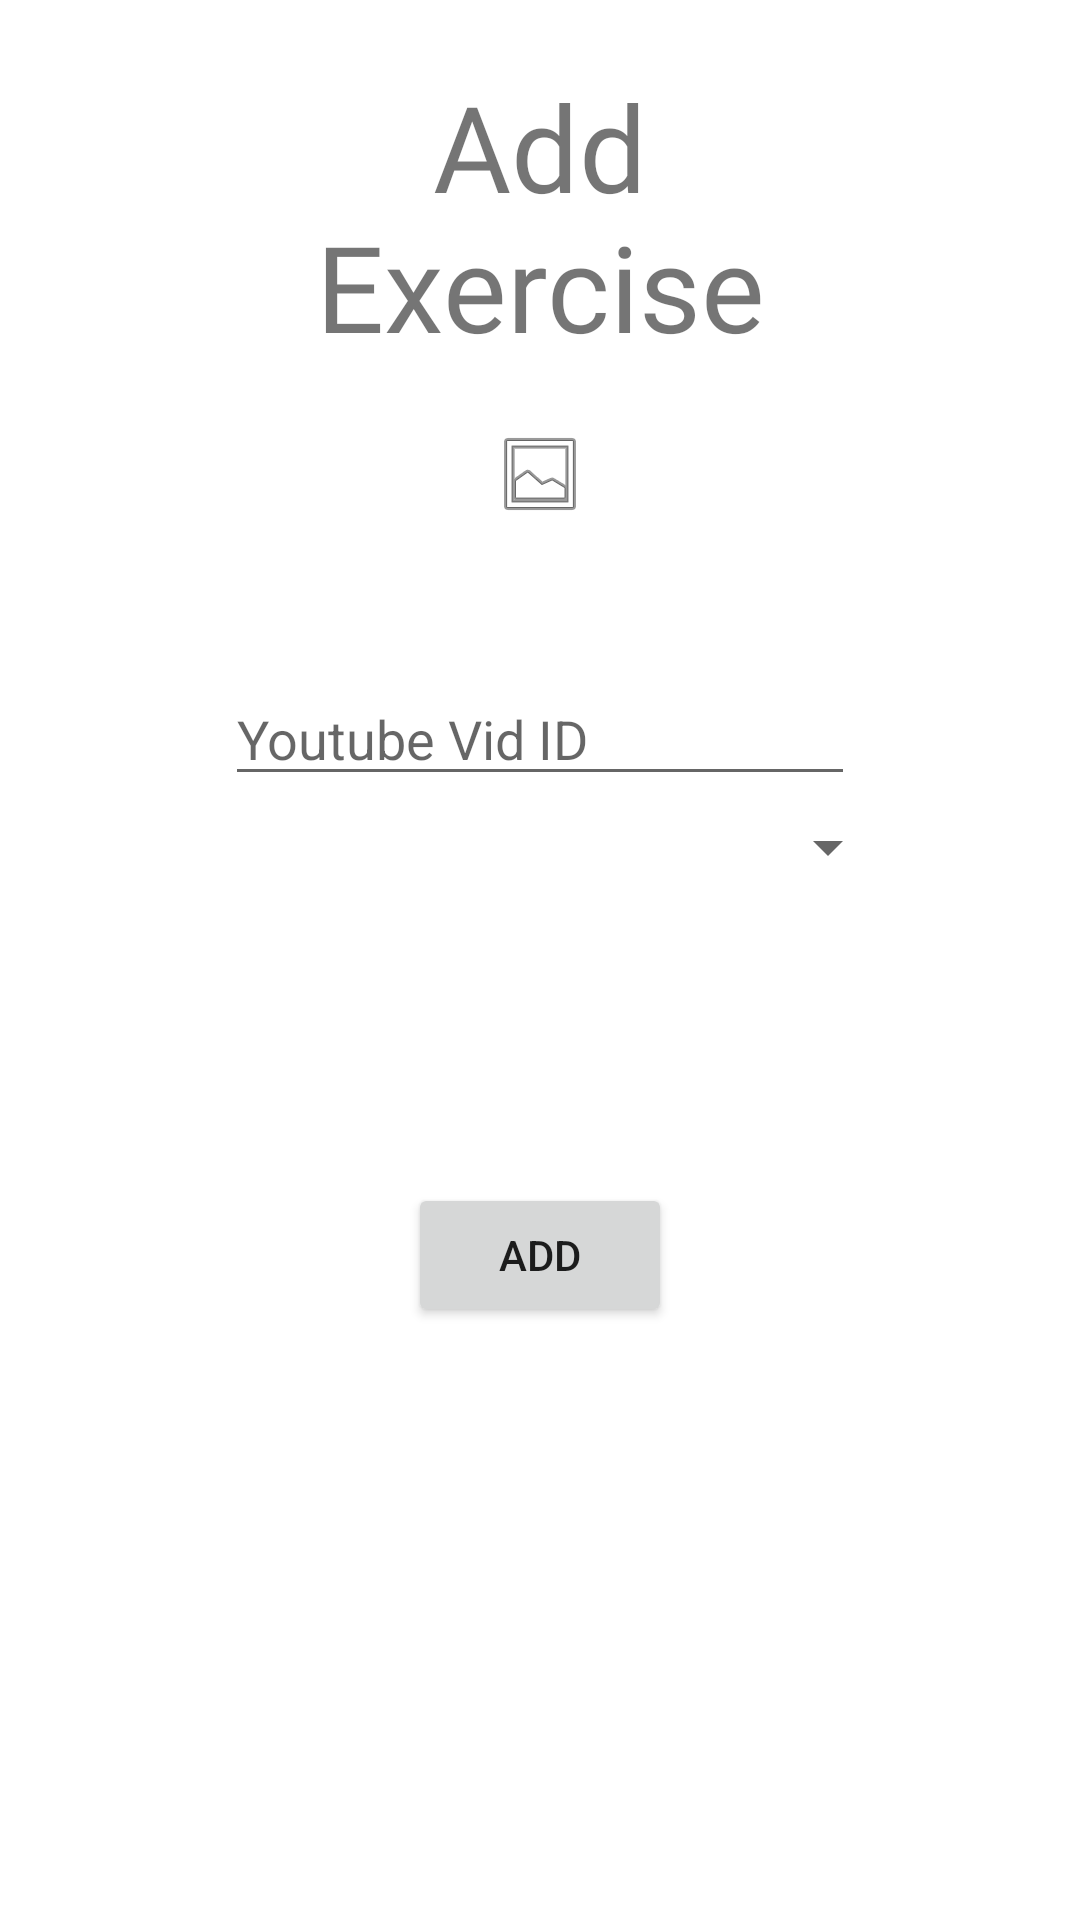

Icons on this 1080×1920 Android screen, each with its box as (x1, y1, x2, y2):
gallery: (504, 438, 576, 510)
